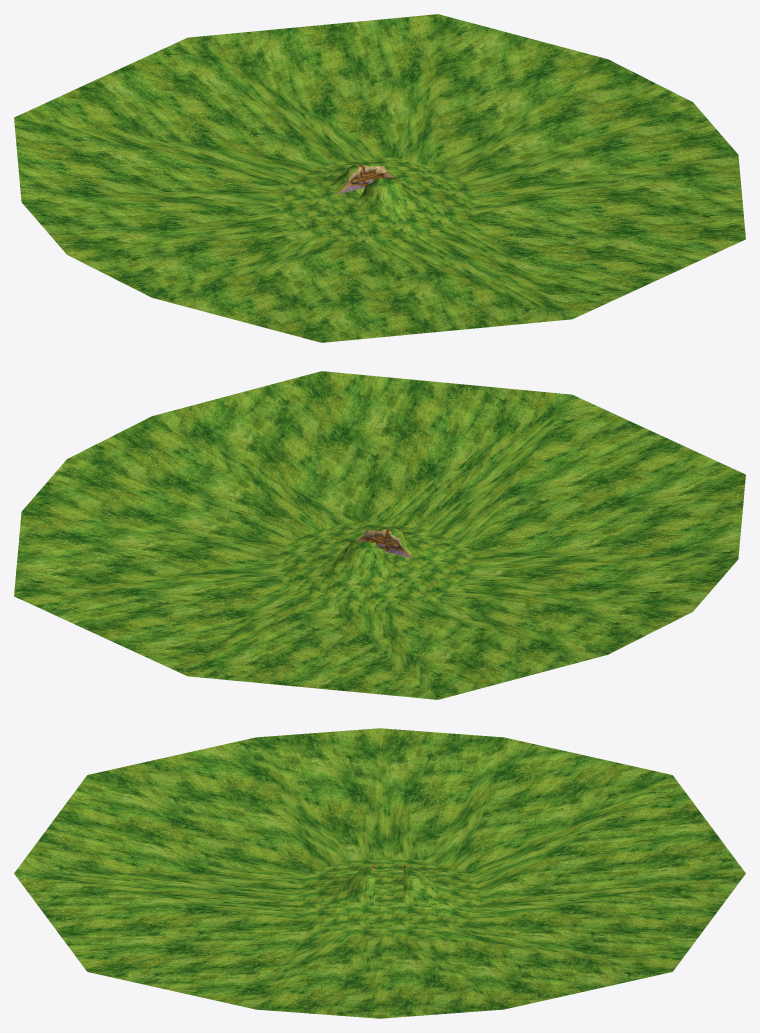
Rendered from ENVO_Antfarm.obj.
The picture shows the model from 3 angles, top to bottom: view 1: azimuth 30°, elevation 25°; view 2: azimuth 150°, elevation 25°; view 3: azimuth 270°, elevation 25°; orthographic projection. The views are drawn at different scales.
Visible parts, largest first — view 1: ENVO_Antfarm; view 2: ENVO_Antfarm; view 3: ENVO_Antfarm.
Part boxes in pixels (<box>): ENVO_Antfarm: <box>14,14,745,342</box>; ENVO_Antfarm: <box>14,371,745,699</box>; ENVO_Antfarm: <box>14,728,745,1018</box>.
Size of the model in its own units: 456 by 20.87 by 485.
Materials: 5 (5 with a texture image).
